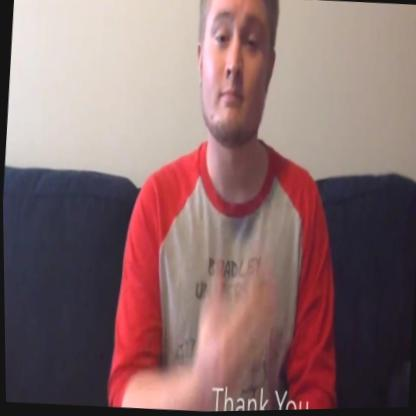ThankYou: (163, 0, 313, 413)
